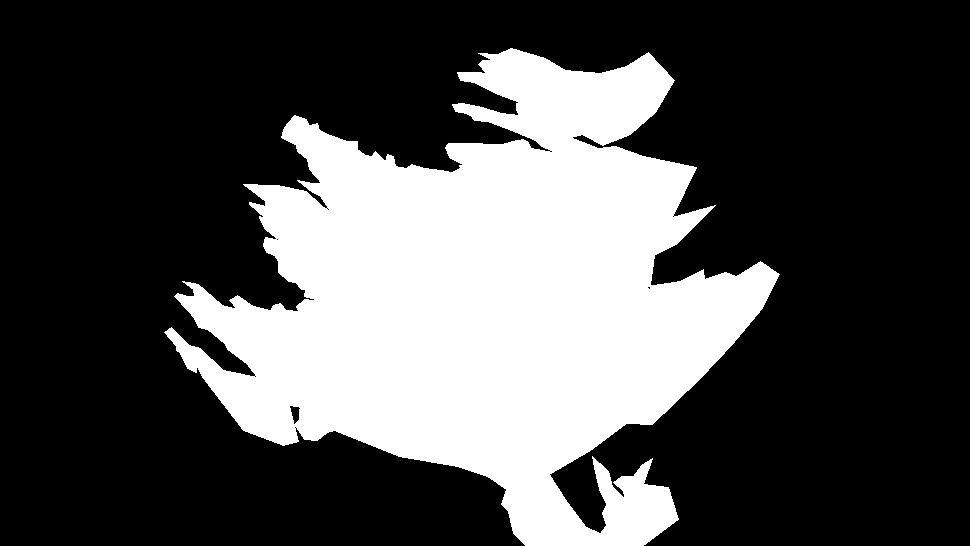Fire: (163, 103, 531, 461)
